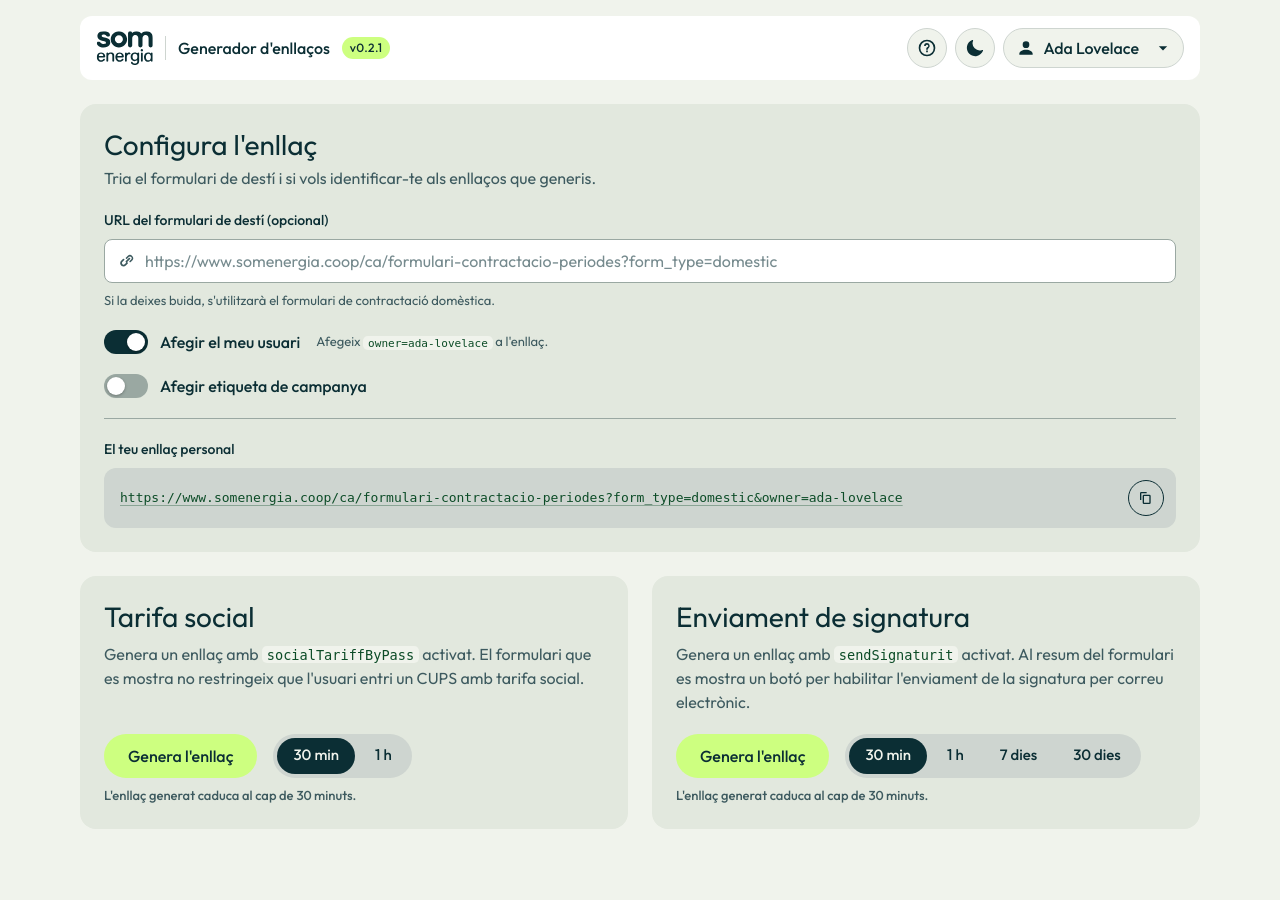
Test case: AdminPage › clears the form URL and restores the default form
Replace the text in the field labelled "URL del formulari de destí (opcional)" with "https://forms.example.test/alta" at (656, 261), box [137,240,1175,282]
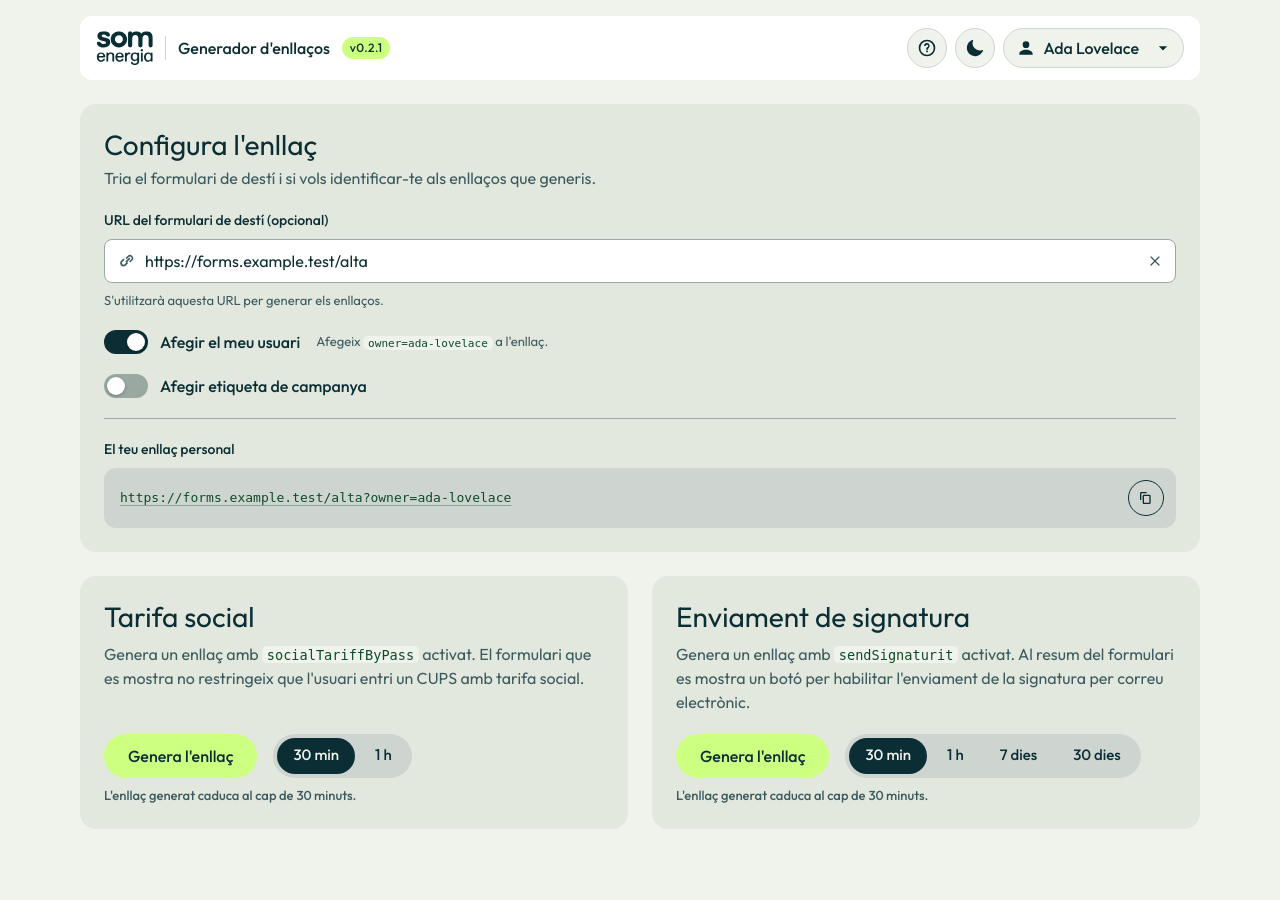
Click the button named "Esborra la URL" at (1155, 261), box [1139,245,1171,277]
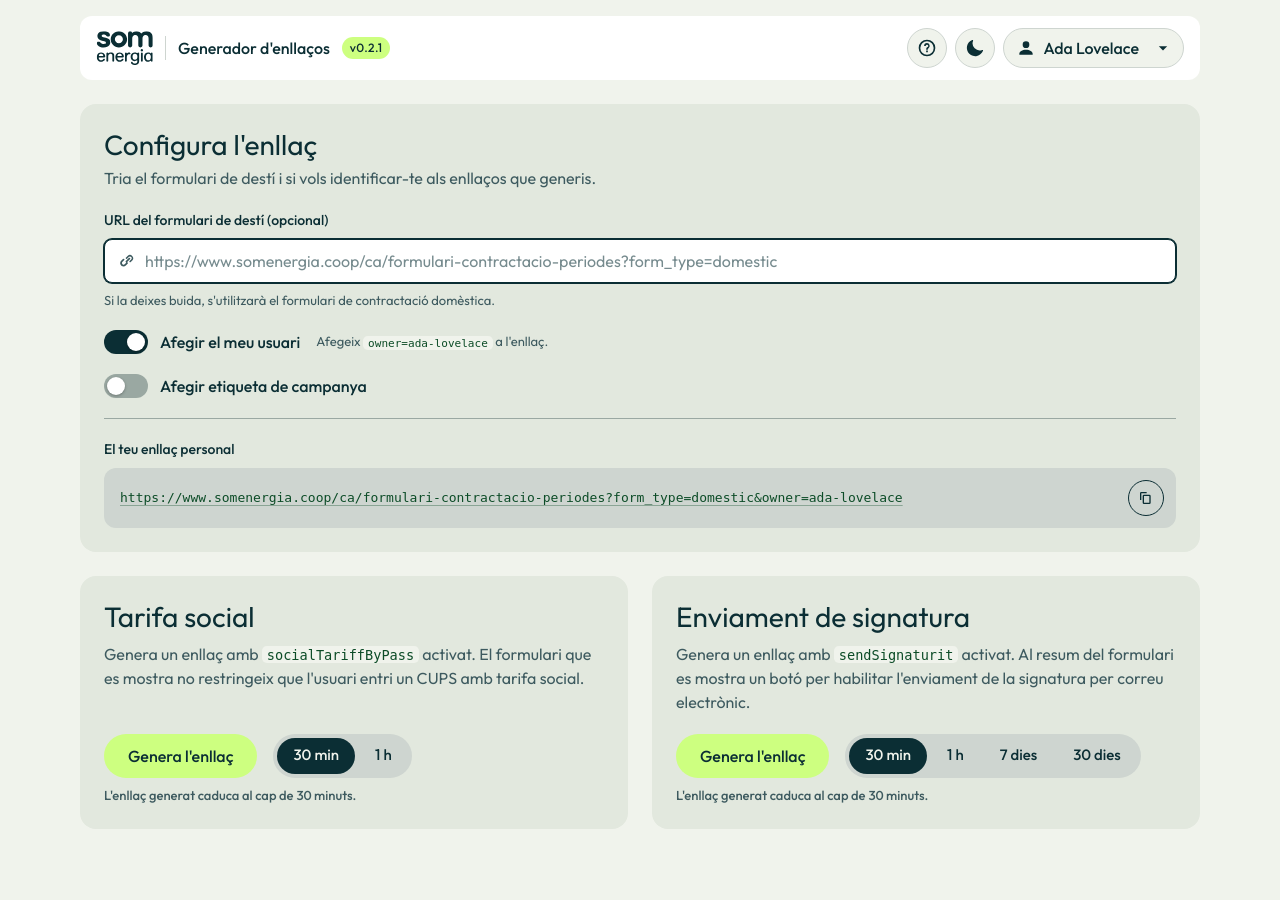
Expected: the field labelled "URL del formulari de destí (opcional)" is empty, [137,240,1175,282]
